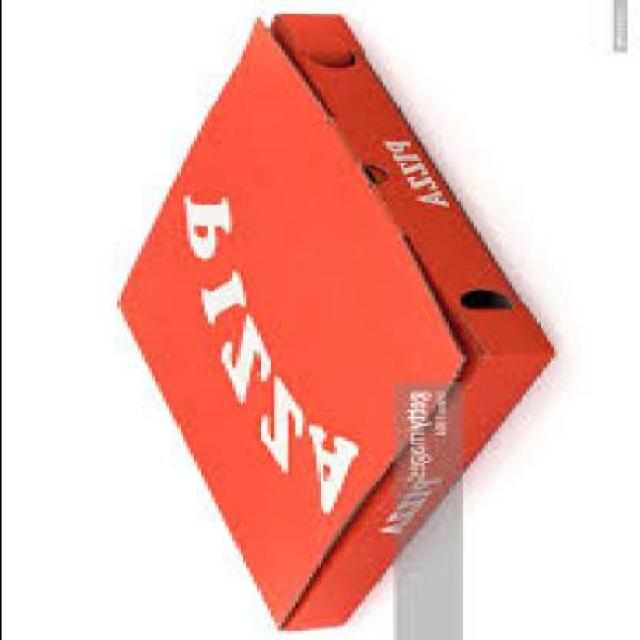CARDBOARD: (109, 9, 548, 628)
